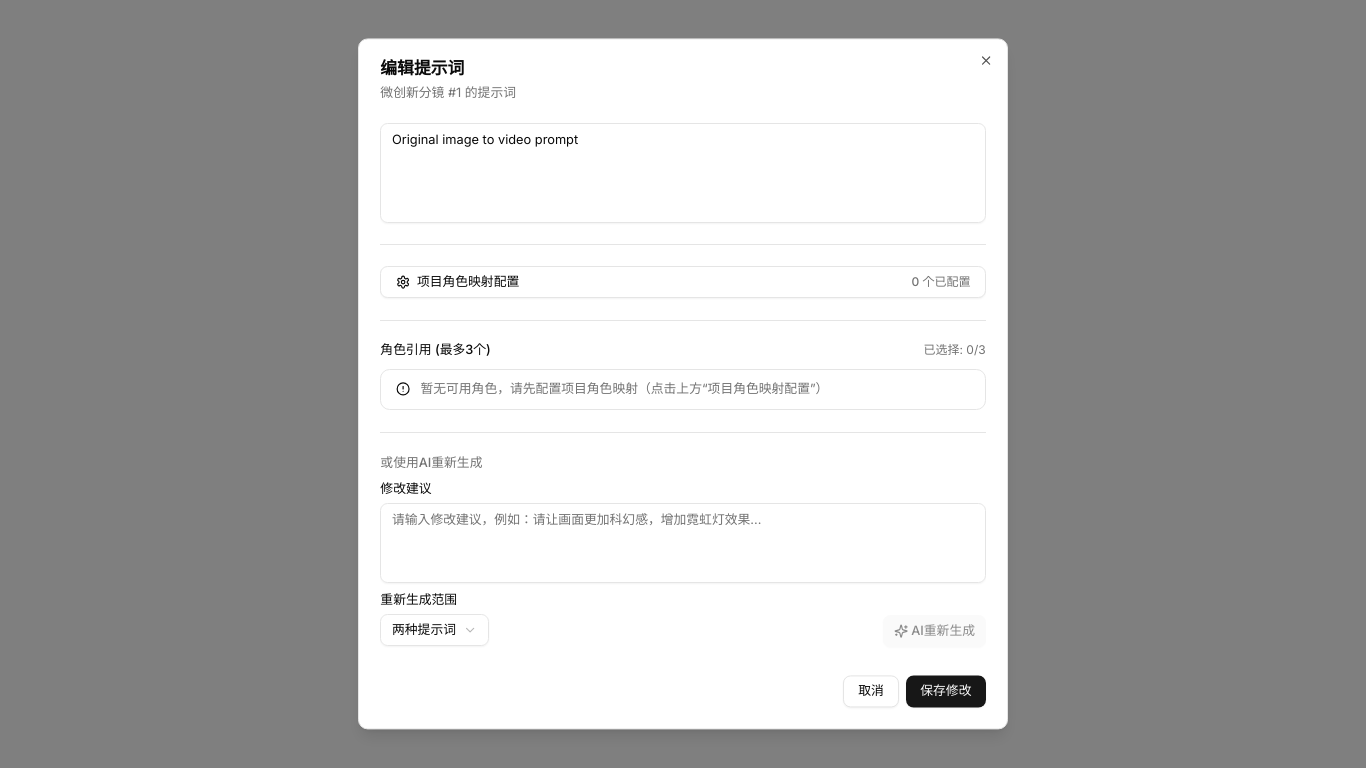
Test case: PromptEditDialog › should enable AI regenerate button when instruction is provided
(page scrolled)
Type "请让画面更加科幻感" into the text box labelled "修改建议" at (683, 543), box top-left (380, 503), bottom-right (986, 583)
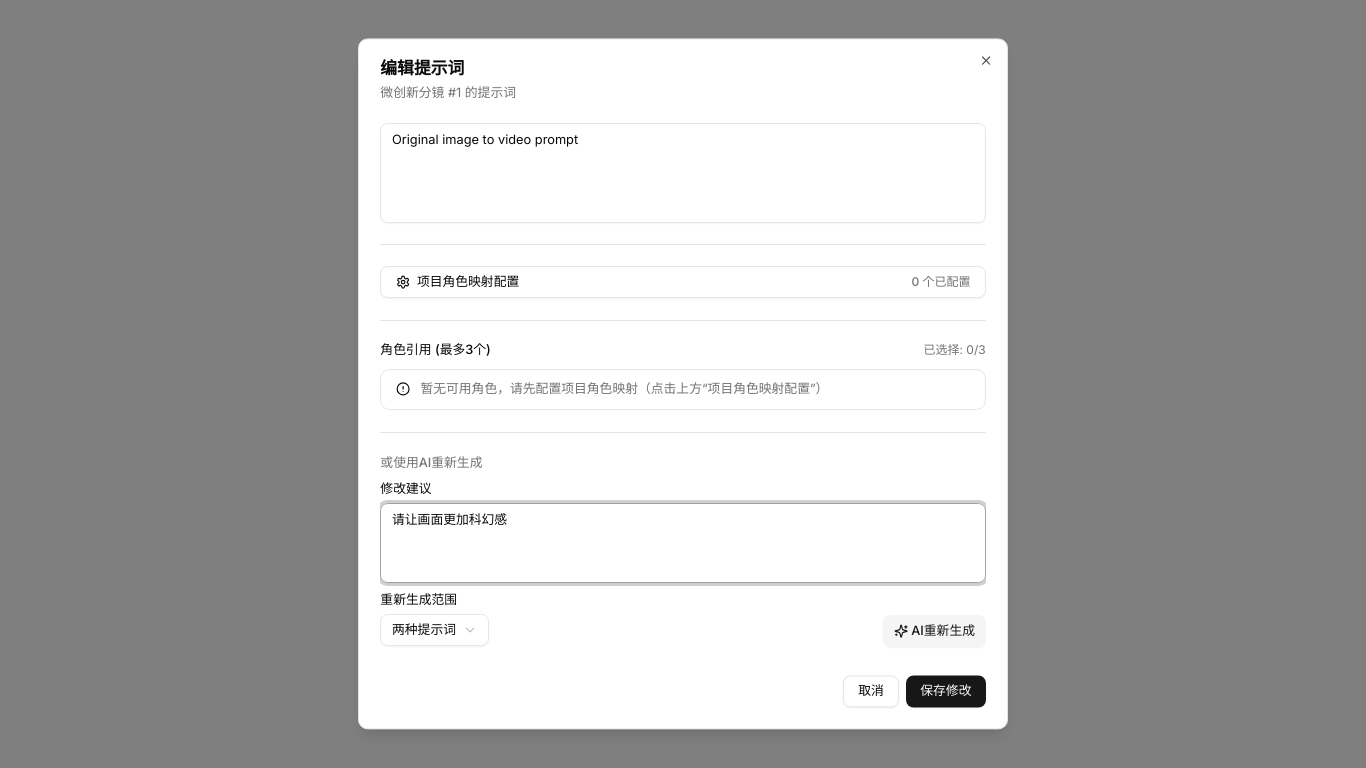
Expected: the button "AI重新生成" is enabled, top-left (883, 615), bottom-right (986, 647)
